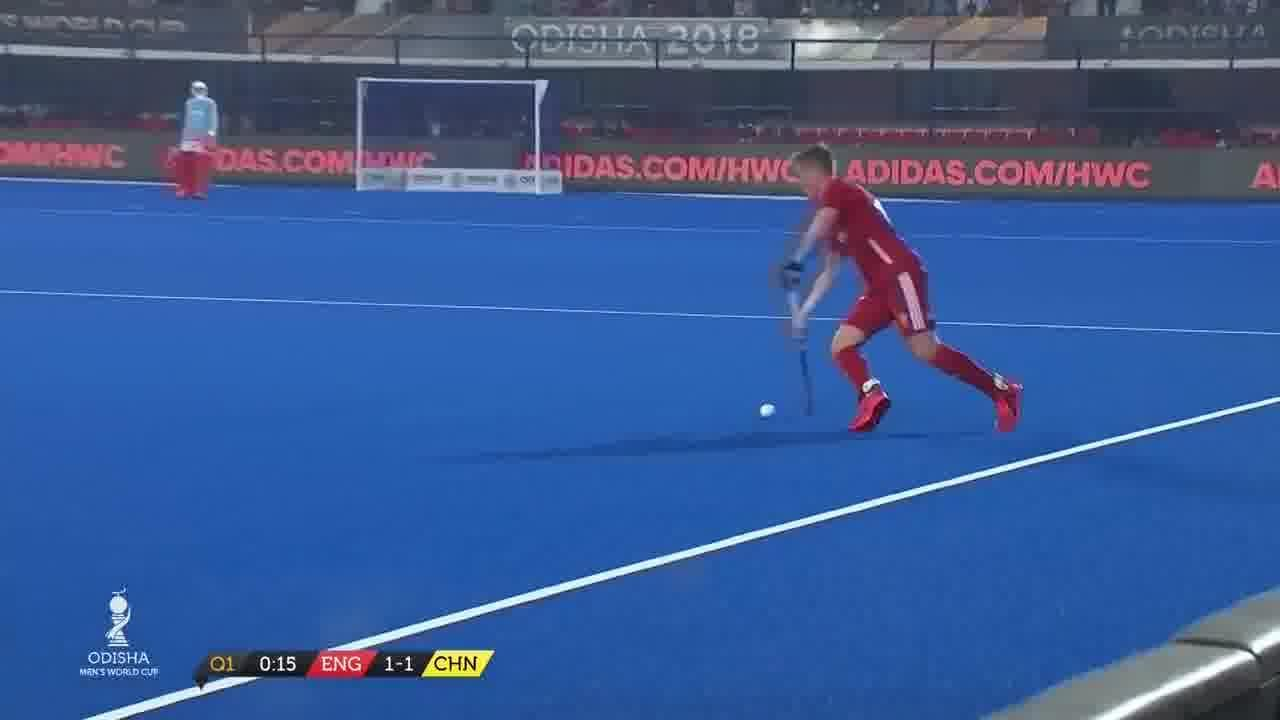ball: (754, 400, 777, 425)
